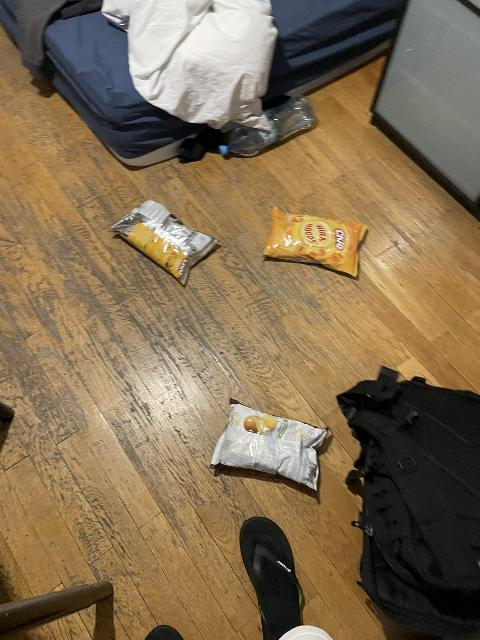Chio Cascaval 125g: (110, 200, 219, 286)
Chio Hula Hoops Cheese 70g: (262, 207, 365, 277)
Lays Beef Grilled Ribs 125g: (210, 398, 328, 489)
